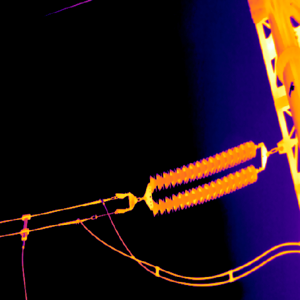insulator: (148, 140, 258, 216)
